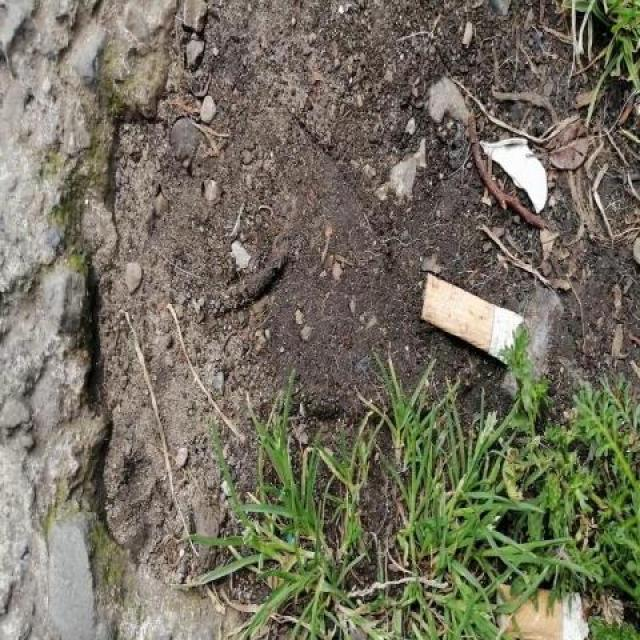non-organic waste: (417, 268, 527, 372), (493, 578, 593, 640)
